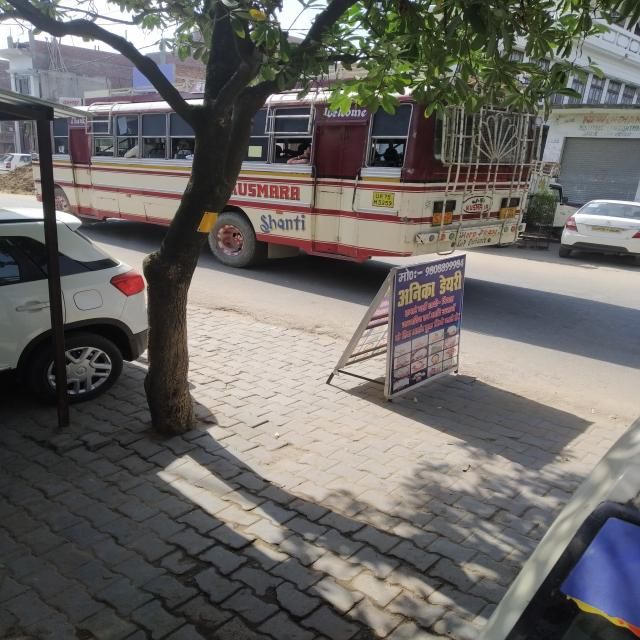Bus: (293, 97, 537, 273)
